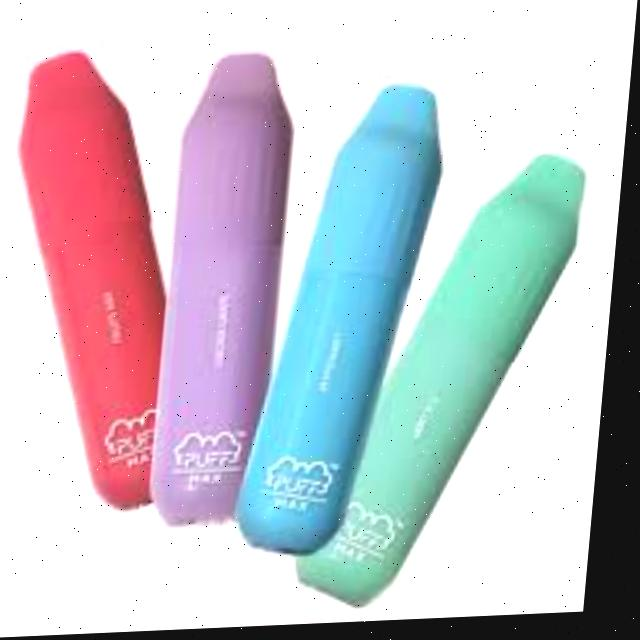vape: (303, 156, 593, 615), (243, 82, 454, 566), (0, 46, 189, 520), (155, 52, 301, 531)
